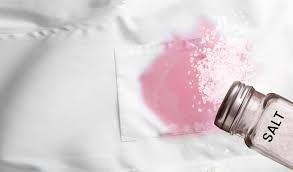wine: (146, 38, 199, 127), (167, 106, 217, 136)
